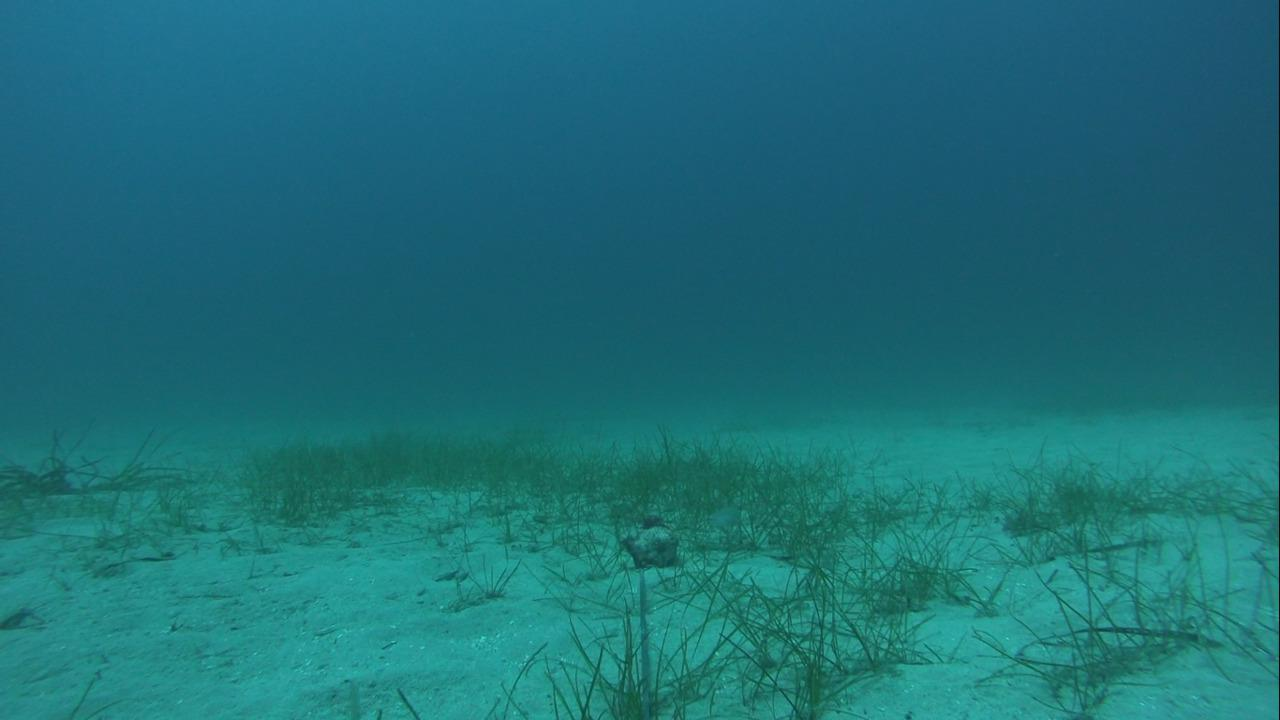raor: (703, 497, 754, 530)
